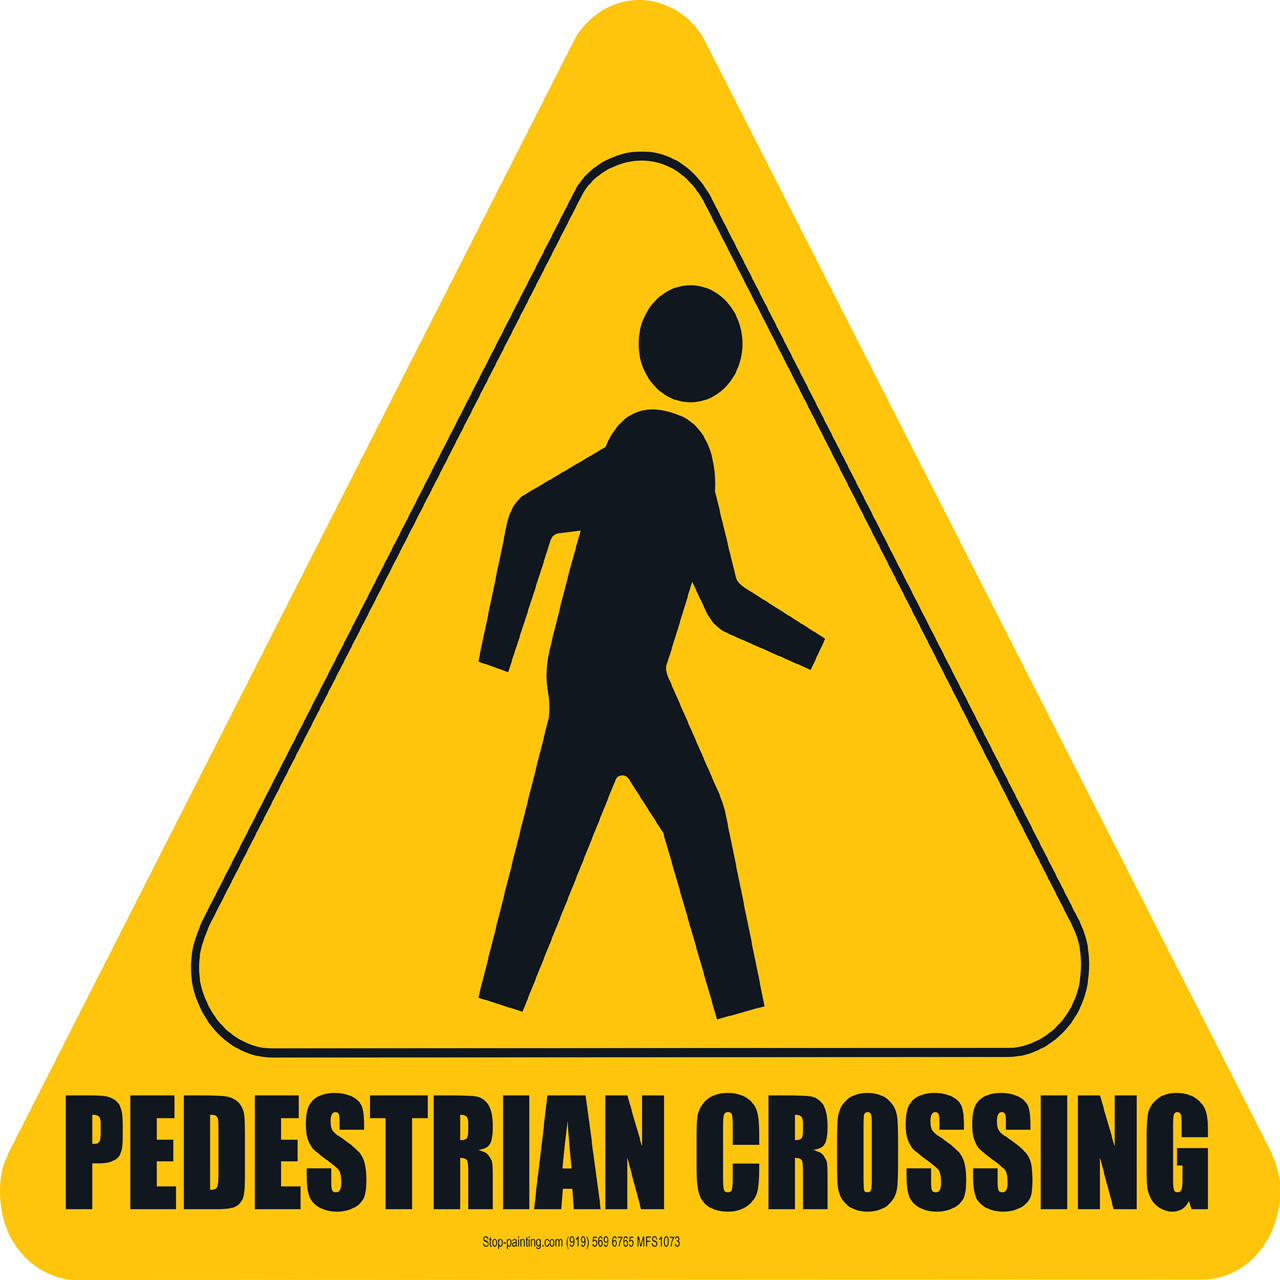pedestrian: (14, 9, 1280, 1280)
